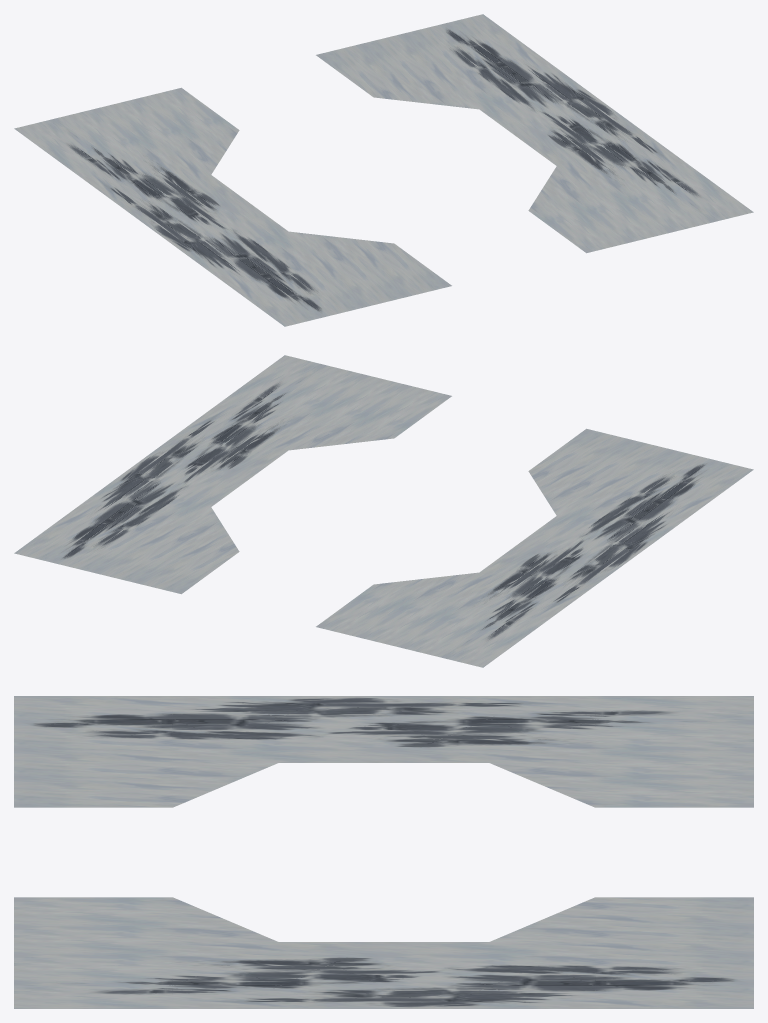
Rendered from oTerrainGroundMap03E2.FBX.
3 views of the same model, one above another, from view 1: azimuth 30°, elevation 25°; view 2: azimuth 150°, elevation 25°; view 3: azimuth 270°, elevation 25° (orthographic). The views are drawn at different scales.
Parts seen in each view (by area): view 1: oTerrainGroundMap03E2; view 2: oTerrainGroundMap03E2; view 3: oTerrainGroundMap03E2.
Boxes of the visible parts, <box> form: oTerrainGroundMap03E2: <box>14,14,753,326</box>; oTerrainGroundMap03E2: <box>14,355,753,667</box>; oTerrainGroundMap03E2: <box>14,696,753,1008</box>.
Size of the model in its own units: 658 by 1.85e-13 by 658.
1 material, 1 textured.
